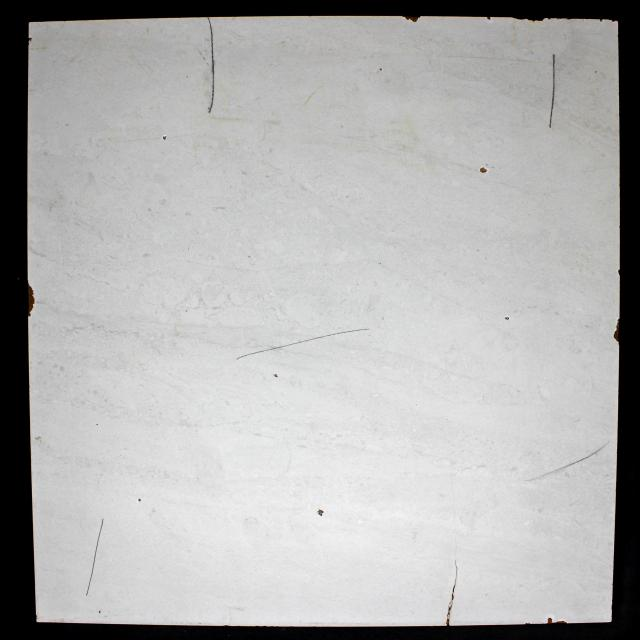edge-chipping: (28, 282, 36, 318), (612, 318, 620, 344), (512, 18, 546, 22), (402, 16, 421, 23), (555, 620, 567, 624), (547, 617, 553, 624), (28, 36, 33, 44), (445, 618, 450, 626), (486, 16, 492, 21), (617, 269, 620, 277)
hole: (478, 166, 488, 174), (317, 508, 324, 517), (162, 134, 168, 141), (503, 316, 510, 320), (379, 66, 383, 72), (274, 373, 278, 378), (138, 498, 142, 502)
line: (235, 324, 371, 362), (84, 516, 106, 600), (522, 460, 579, 485), (206, 17, 217, 116), (577, 439, 610, 463), (547, 54, 556, 130), (453, 558, 459, 583)
